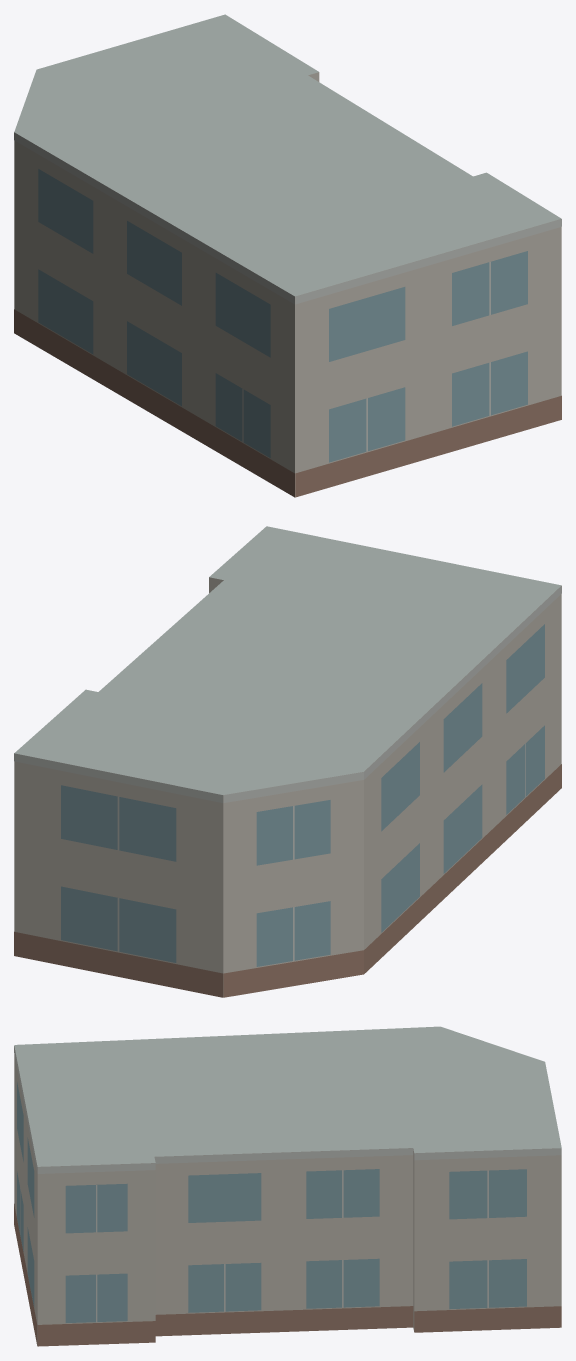
File: survey-upis-32985909.glb
3 renders of one model, top to bottom at view 1: azimuth 30°, elevation 25°; view 2: azimuth 150°, elevation 25°; view 3: azimuth 270°, elevation 25°, orthographic. The views are drawn at different scales.
Parts seen in each view (by area): view 1: survey-upis-32985909.tmp; view 2: survey-upis-32985909.tmp; view 3: survey-upis-32985909.tmp.
Boxes of the visible parts, x1=… form: survey-upis-32985909.tmp: x1=14, y1=14, x2=561, y2=497; survey-upis-32985909.tmp: x1=14, y1=526, x2=561, y2=997; survey-upis-32985909.tmp: x1=14, y1=1026, x2=561, y2=1346.
Size of the model in its own units: 10.24 by 6.1 by 16.88.
